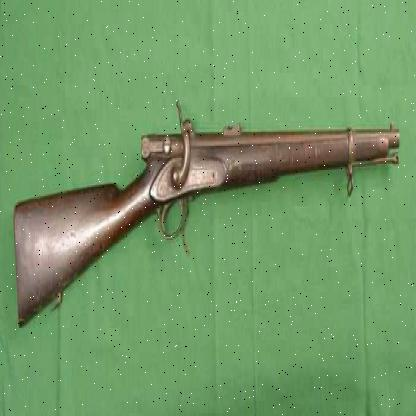rifle: (7, 96, 408, 345)
